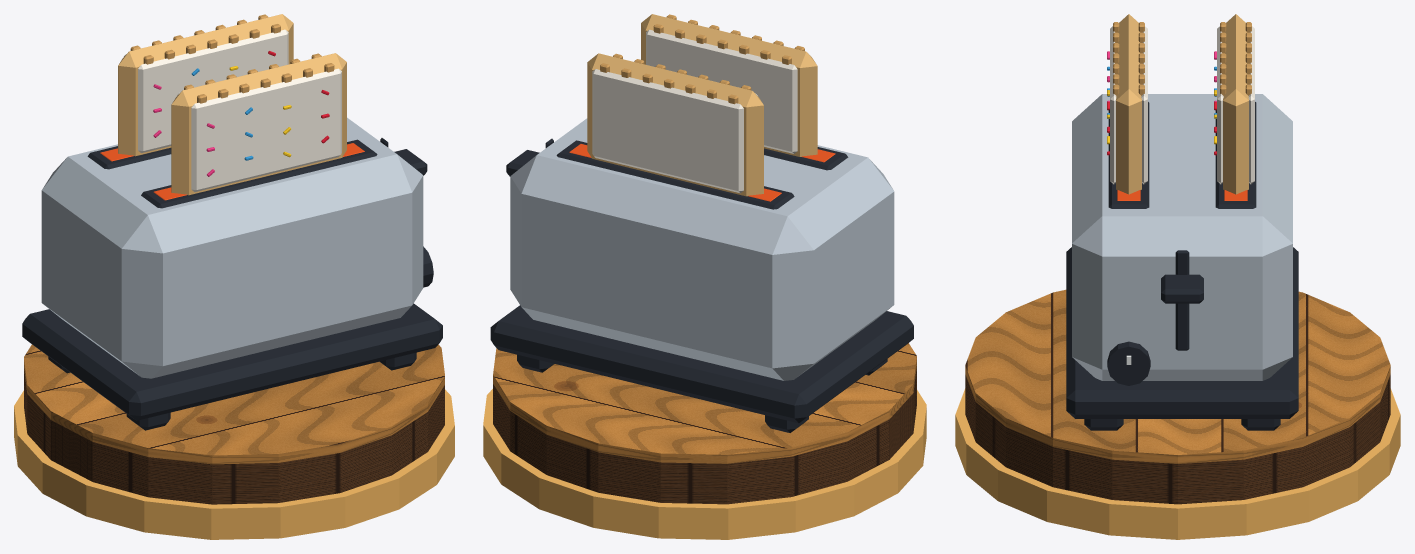
File: PopTartToaster.glb
3 views of the same model, side by side, from view 1: azimuth 30°, elevation 25°; view 2: azimuth 150°, elevation 25°; view 3: azimuth 270°, elevation 25° (orthographic).
Visible parts, largest first — view 1: PopTartToaster, pedestal, rim; view 2: PopTartToaster, pedestal, rim; view 3: PopTartToaster, pedestal, rim.
Boxes of the visible parts, x1,y1,x2,y2 form: PopTartToaster: (22, 14, 442, 430); pedestal: (24, 344, 444, 504); rim: (14, 389, 454, 539); PopTartToaster: (490, 14, 913, 432); pedestal: (493, 343, 916, 504); rim: (483, 389, 926, 539); PopTartToaster: (1066, 14, 1298, 430); pedestal: (965, 289, 1390, 504); rim: (955, 388, 1400, 539).
Bounding box in the file's own units: 0.9 × 0.88 × 0.9.
Materials: 14 (2 with a texture image).
